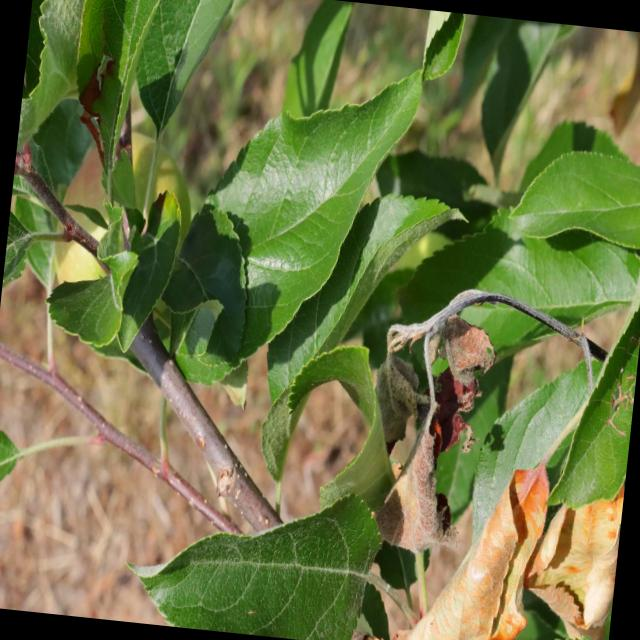-FireBlight-: (361, 306, 484, 544), (474, 472, 624, 640)
